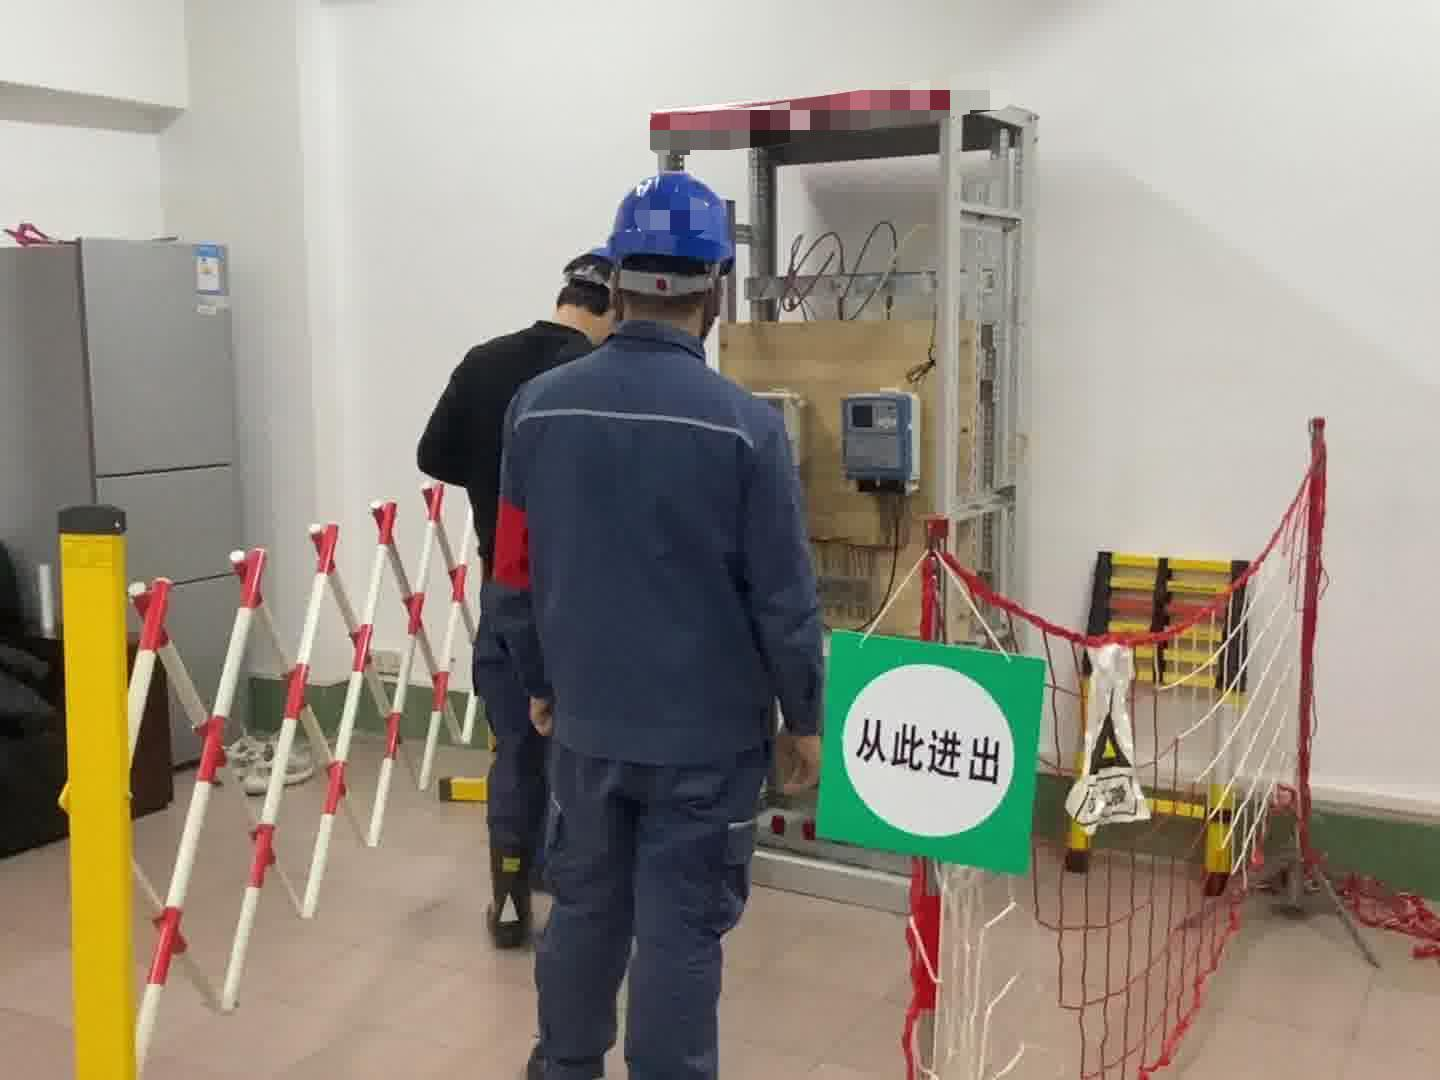halt: (599, 172, 746, 340)
